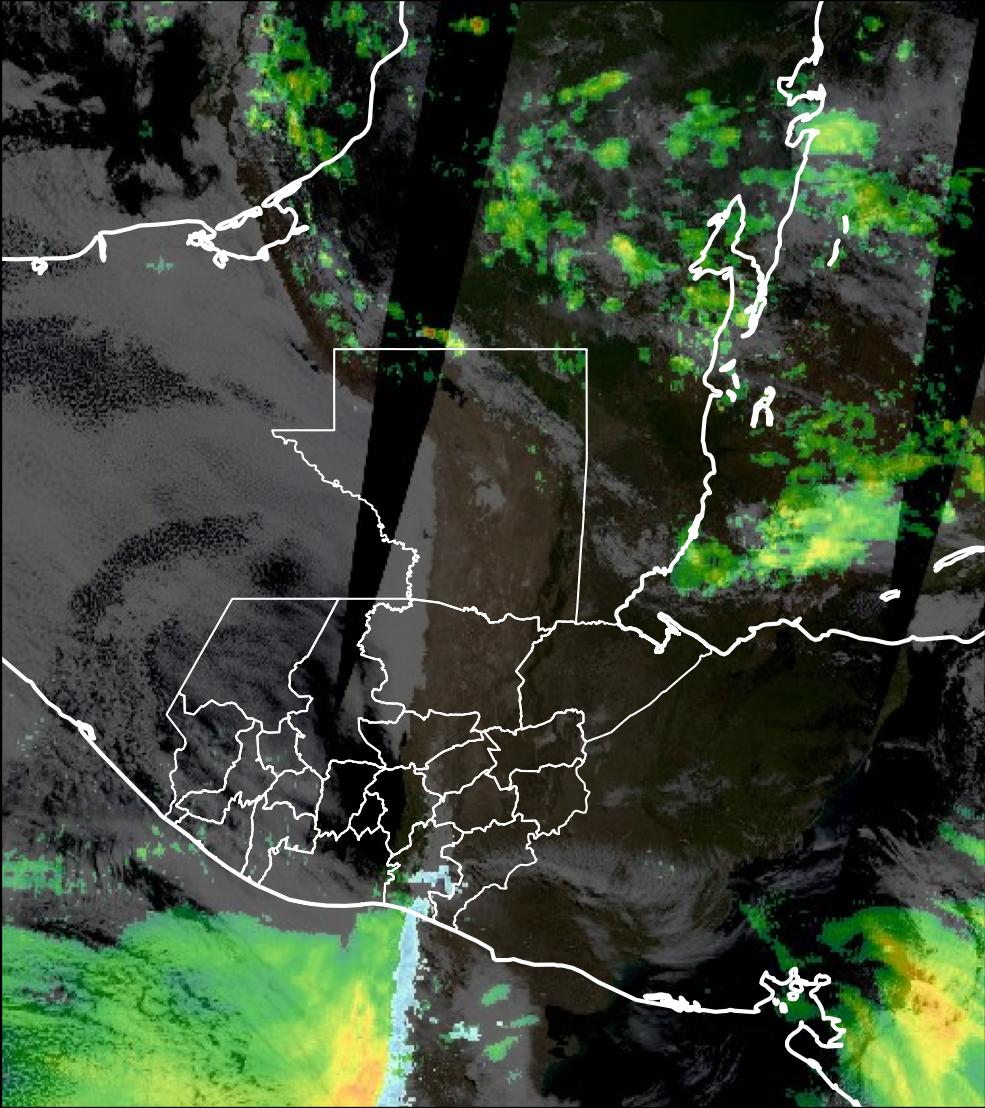precipitacion: (853, 932, 985, 1106)
